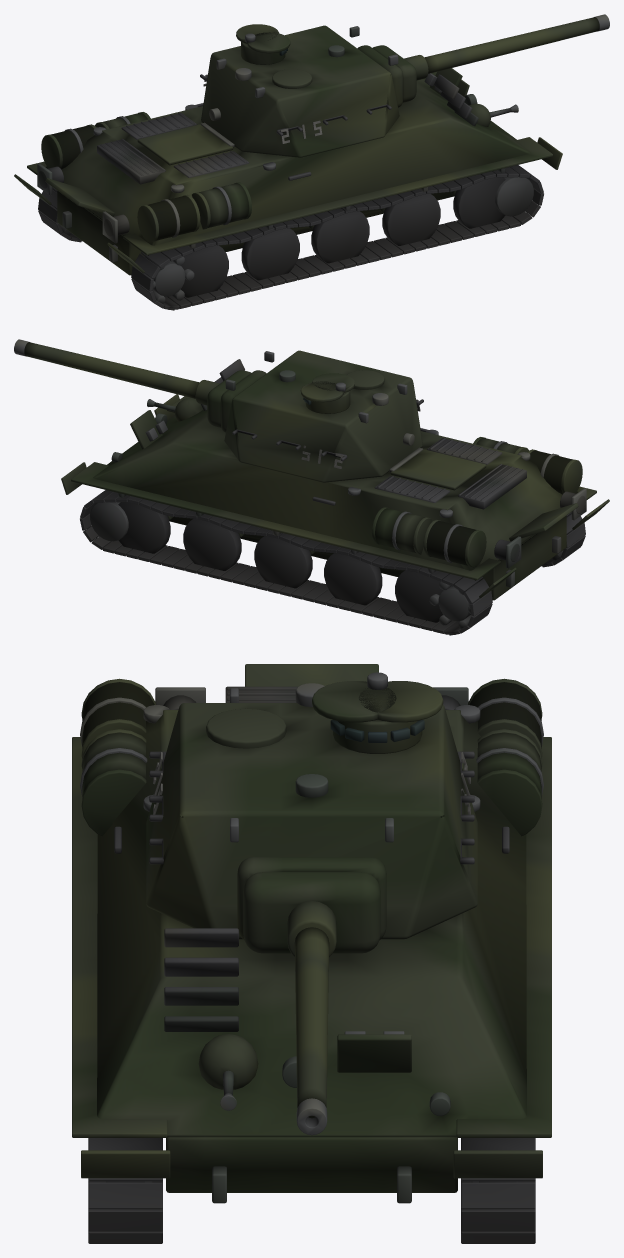
3 views of the same model, one above another, from view 1: azimuth 30°, elevation 25°; view 2: azimuth 150°, elevation 25°; view 3: azimuth 270°, elevation 25° (orthographic). The views are drawn at different scales.
Parts seen in each view (by area): view 1: upper, turret, wheels, track, drums, fender, gun, hull, cupola, mg, rail; view 2: upper, turret, wheels, track, drums, fender, gun, hull, cupola, mg, rail; view 3: upper, turret, fender, gun, drums, hull, track, cupola, mg, rail.
Part boxes in pixels (x1,y1,x2,y2): upper: [37, 68, 530, 255]; turret: [201, 25, 399, 157]; wheels: [52, 177, 533, 303]; track: [38, 165, 543, 310]; drums: [41, 112, 251, 242]; fender: [14, 72, 562, 273]; gun: [357, 14, 609, 107]; hull: [57, 191, 454, 275]; cupola: [236, 24, 290, 64]; mg: [469, 103, 518, 126]; rail: [195, 74, 391, 180]; upper: [93, 359, 586, 580]; turret: [224, 350, 422, 482]; wheels: [90, 502, 571, 628]; track: [80, 490, 585, 635]; drums: [372, 437, 582, 567]; fender: [61, 394, 609, 598]; gun: [14, 339, 266, 432]; hull: [169, 516, 566, 600]; cupola: [300, 373, 354, 413]; mg: [147, 398, 202, 421]; rail: [232, 399, 428, 505]; upper: [97, 664, 526, 1136]; turret: [146, 683, 477, 939]; fender: [72, 737, 551, 1178]; gun: [237, 857, 386, 1135]; drums: [80, 678, 543, 836]; hull: [166, 1136, 457, 1203]; track: [88, 1138, 535, 1243]; cupola: [312, 672, 443, 753]; mg: [198, 1034, 258, 1110]; rail: [114, 751, 509, 864].
Bounding box in the file's own units: 8.43 × 2.79 × 3.22.
